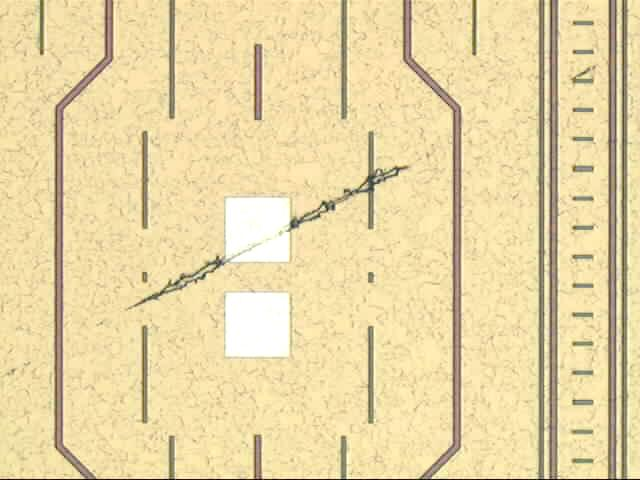SCRATCH: (1, 33, 640, 391)
